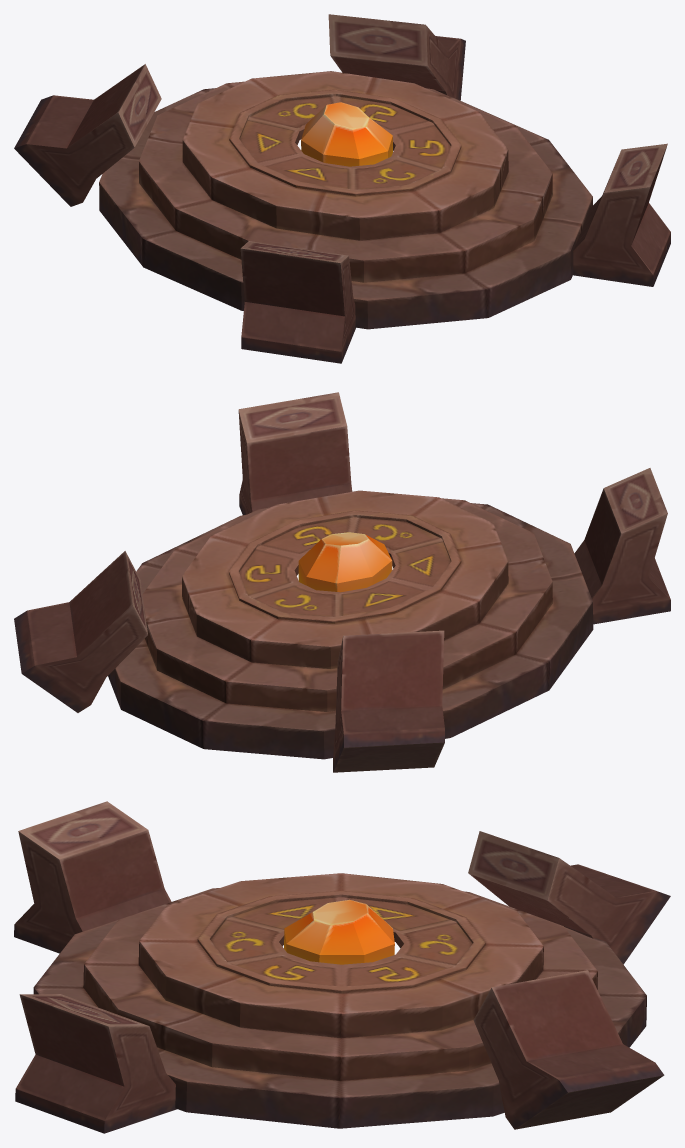
File: huyoubaoshi.FBX
3 views of the same model, one above another, from view 1: azimuth 30°, elevation 25°; view 2: azimuth 150°, elevation 25°; view 3: azimuth 270°, elevation 25° (orthographic). The views are drawn at different scales.
Parts seen in each view (by area): view 1: huyoubaoshi; view 2: huyoubaoshi; view 3: huyoubaoshi.
Boxes of the visible parts, <box> form: huyoubaoshi: <box>14,14,670,363</box>; huyoubaoshi: <box>14,392,670,772</box>; huyoubaoshi: <box>14,801,670,1133</box>.
Bounding box in the file's own units: 714 × 186 × 854.
